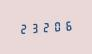six: (62, 18, 72, 32)
three: (29, 21, 39, 34)
two: (18, 21, 28, 35), (40, 20, 50, 33)
zero: (51, 19, 61, 32)
